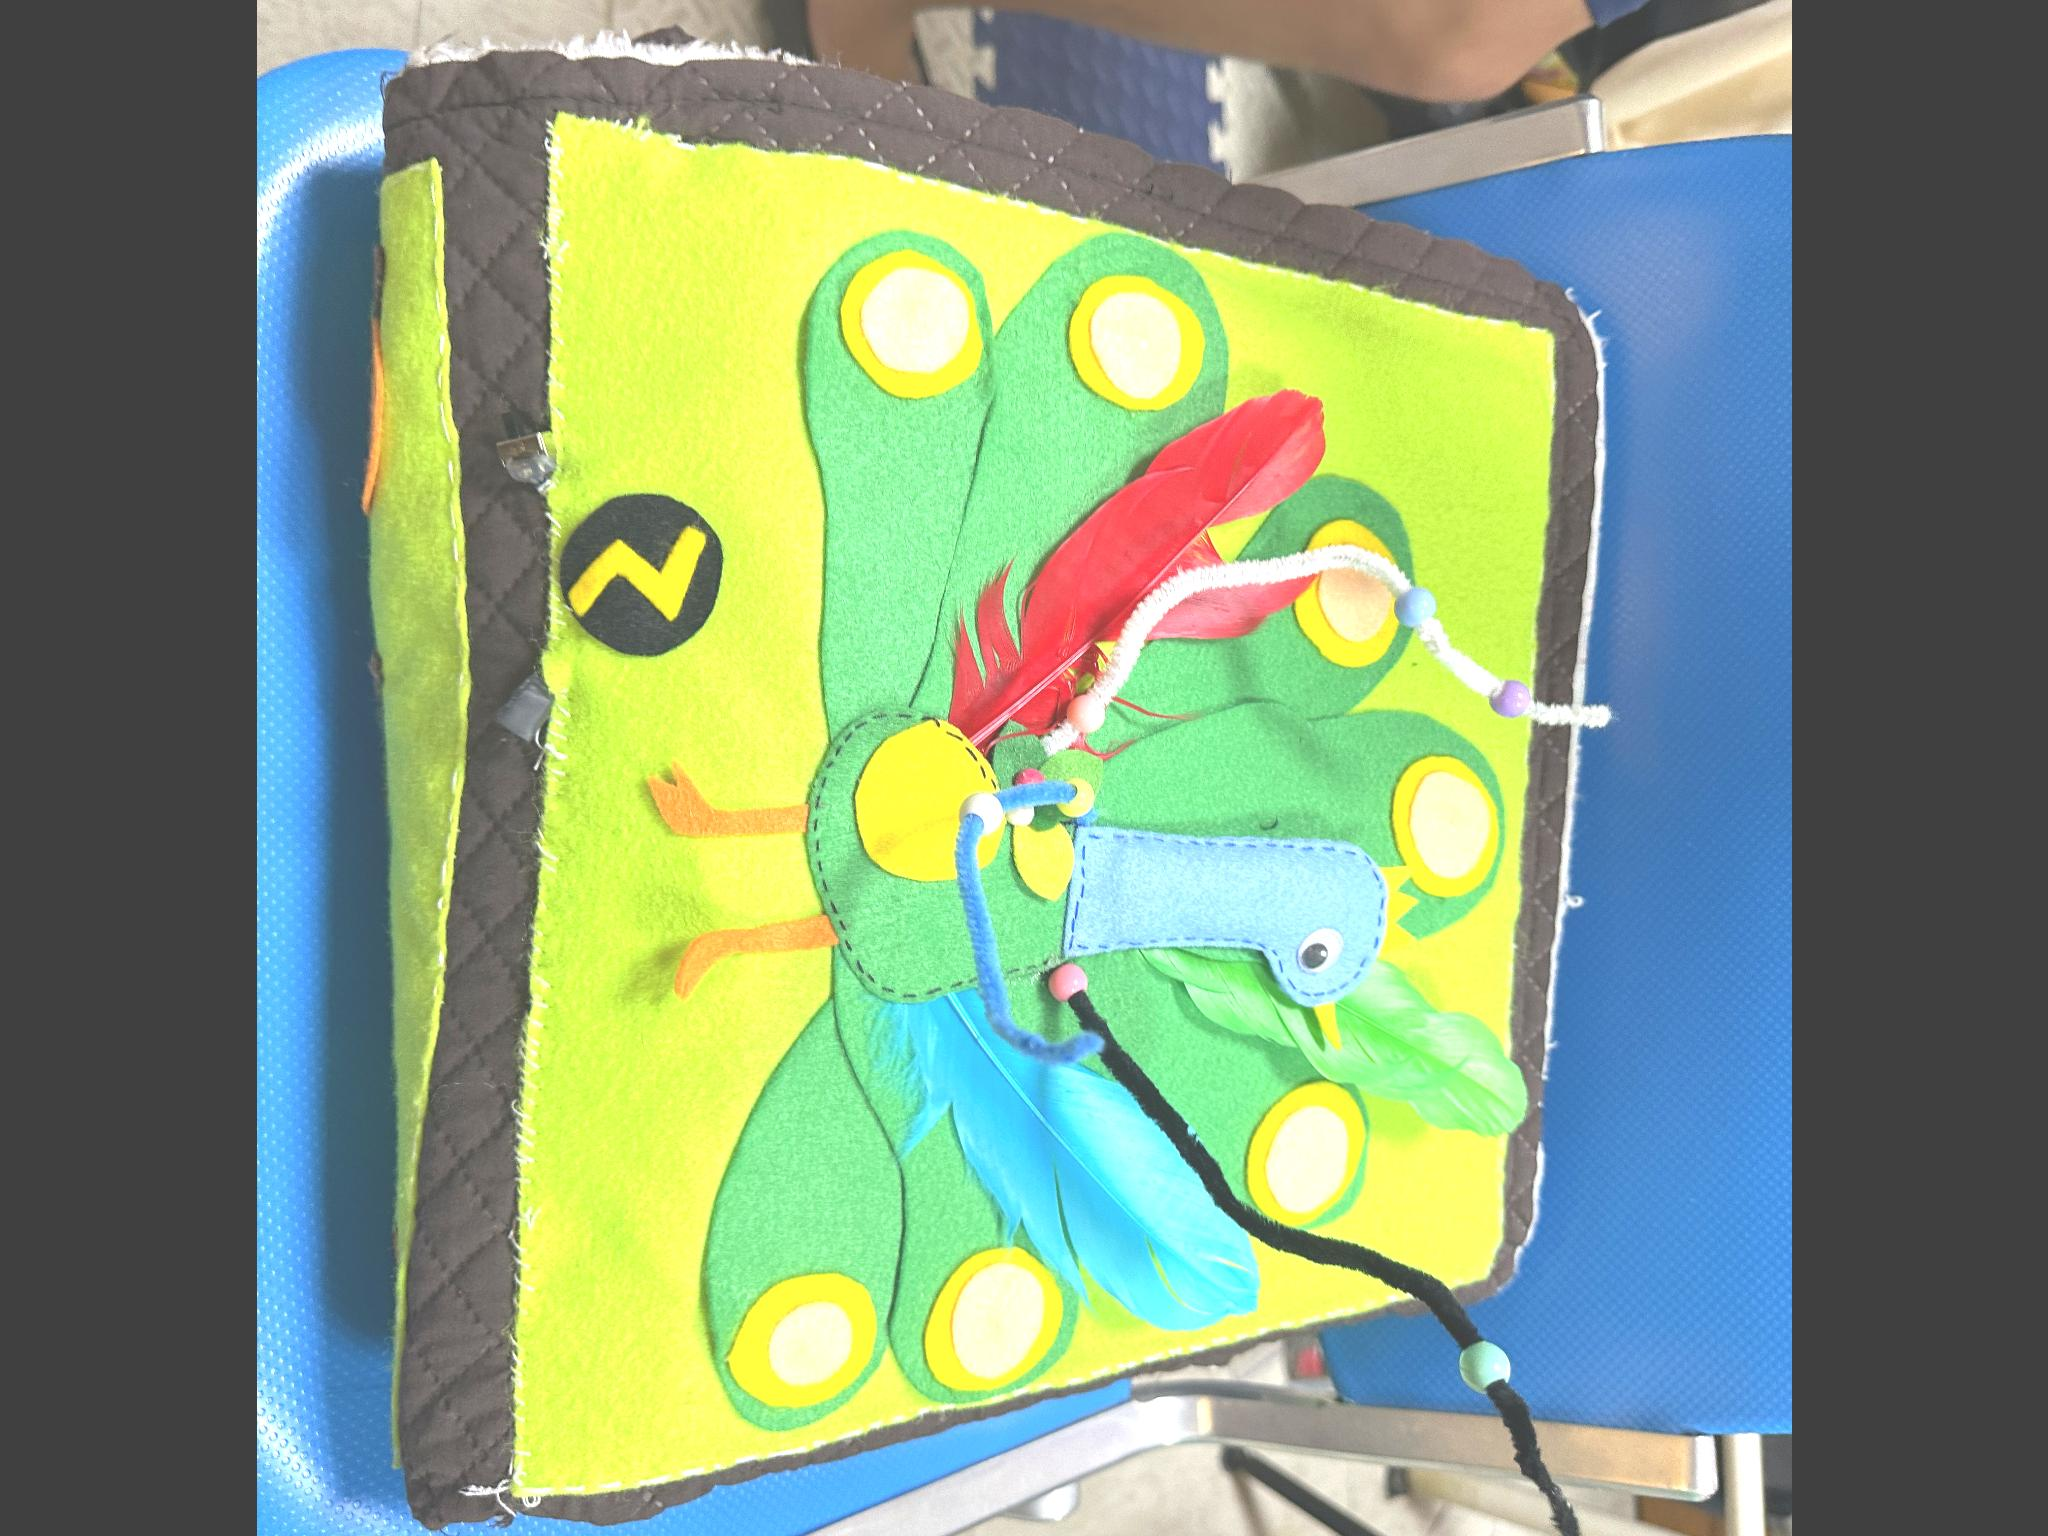bead: (1439, 1324, 1525, 1406), (1384, 577, 1454, 639), (1054, 682, 1120, 746), (1028, 956, 1098, 1010), (1472, 672, 1540, 720), (1048, 778, 1110, 822), (966, 791, 1016, 837)
